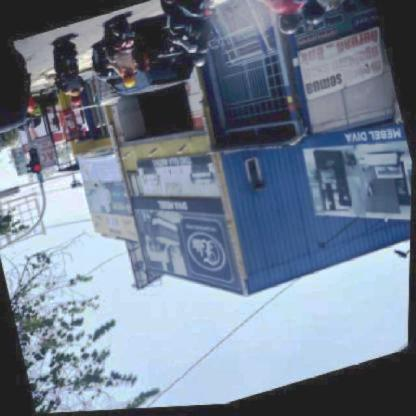Traffic Light -Red-: (28, 146, 43, 174)
